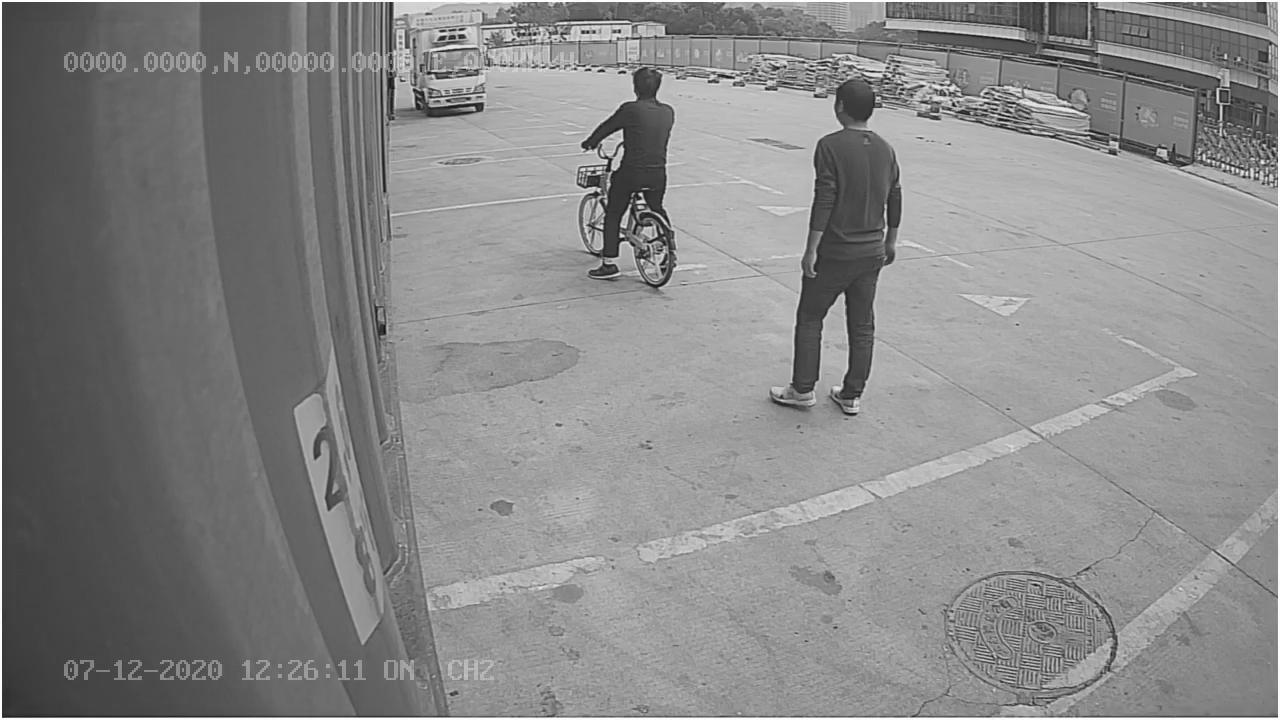person: (766, 76, 911, 415)
